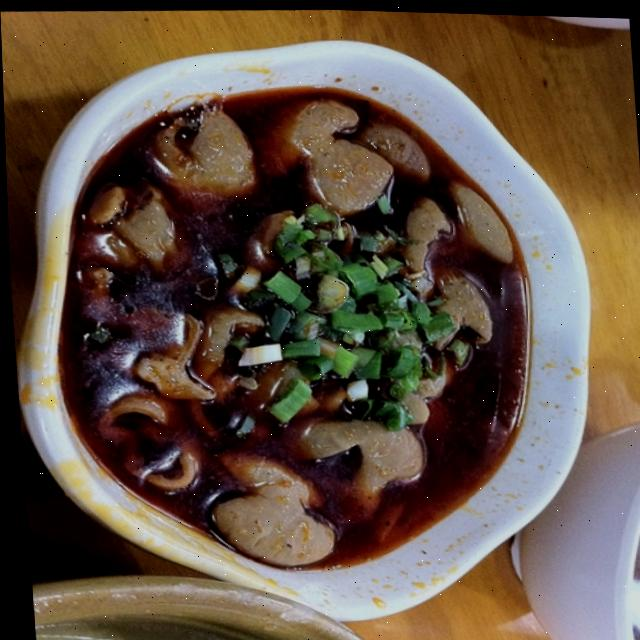汤锅炖物: (1, 18, 597, 636)
